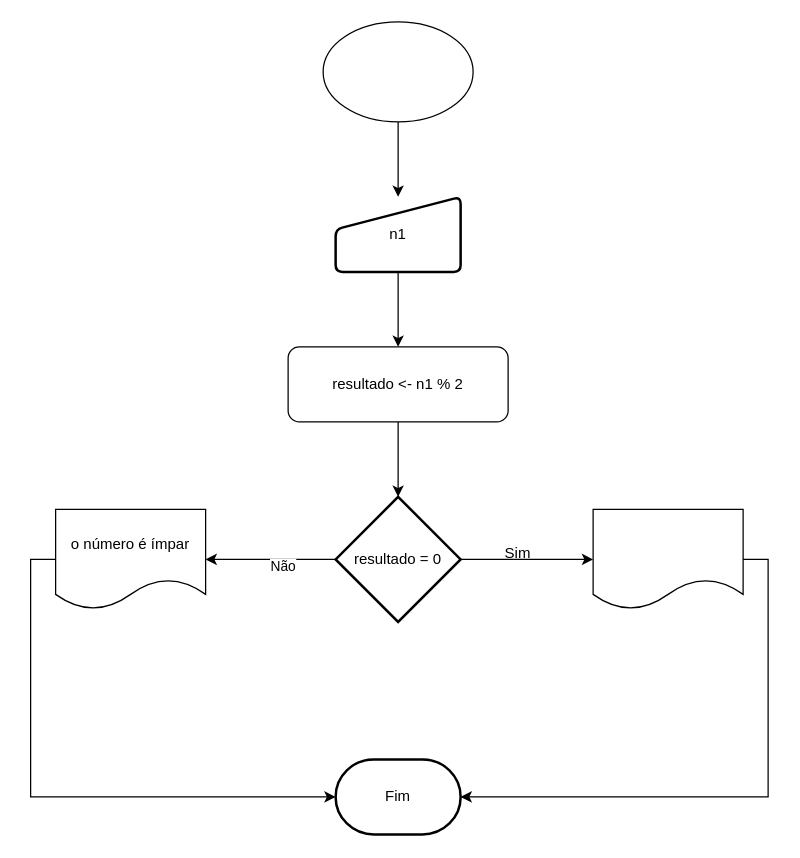
The diagram is 800 pixels wide and 858 high, and some of its shapes have lost their labels. Here are the shapes that lost their labels. From the top down, the centre of each, then its label:
At point (397, 71): "Início".
At point (667, 558): "o número é par".
